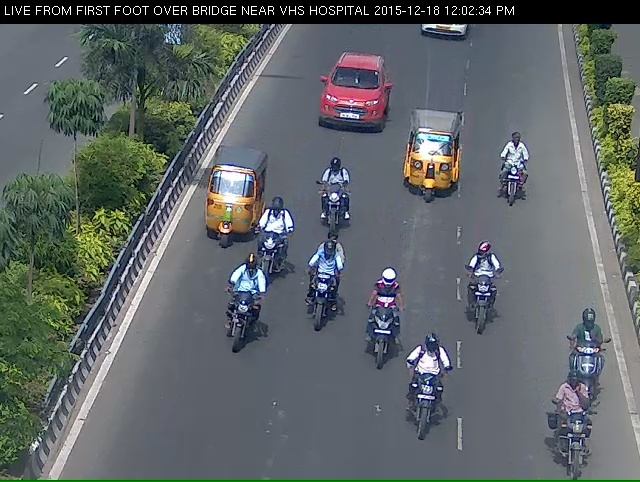Car: (178, 170, 249, 266), (312, 61, 389, 147), (398, 121, 463, 212)
Person: (214, 285, 262, 380), (301, 263, 340, 369), (465, 268, 509, 360), (360, 305, 403, 397), (568, 329, 608, 416), (305, 186, 348, 266), (559, 402, 599, 477), (409, 372, 438, 464), (245, 218, 279, 293), (498, 146, 530, 219)
